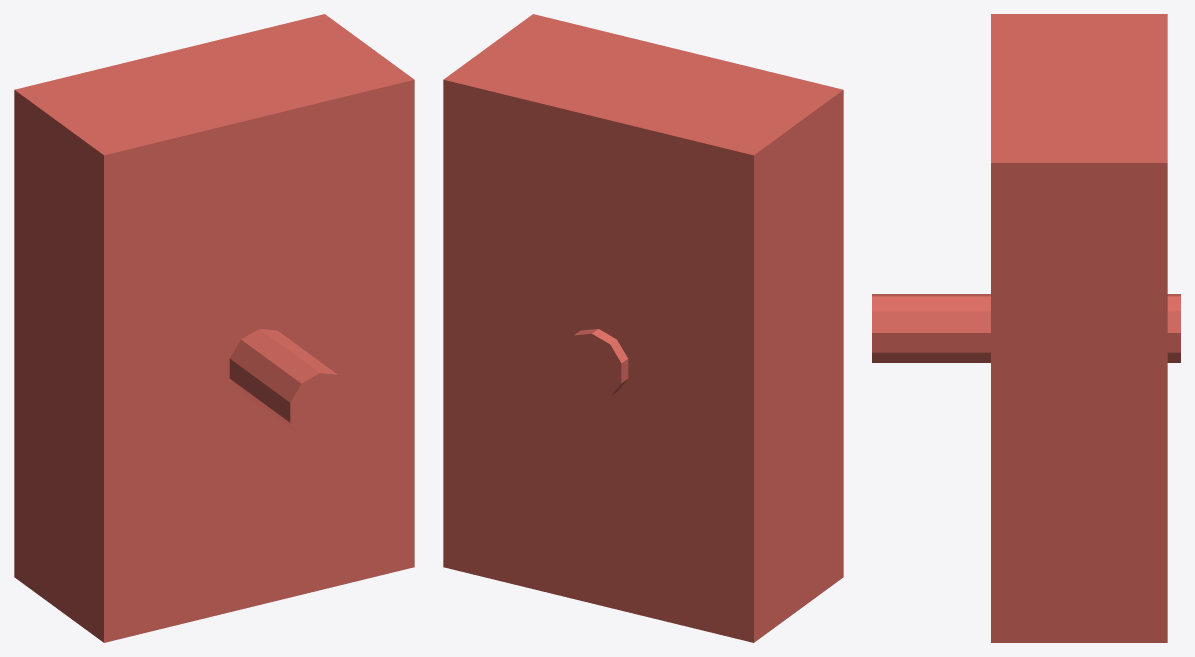
The model's file is extinguisher_station.glb.
3 renders of one model, left to right at view 1: azimuth 30°, elevation 25°; view 2: azimuth 150°, elevation 25°; view 3: azimuth 270°, elevation 25°, orthographic.
Parts seen in each view (by area): view 1: cabinet, ext; view 2: cabinet, ext; view 3: cabinet, ext.
Boxes of the visible parts, x1,y1,x2,y2 form: cabinet: [14, 14, 414, 642]; ext: [229, 329, 349, 437]; cabinet: [443, 14, 843, 642]; ext: [562, 329, 628, 398]; cabinet: [991, 14, 1167, 642]; ext: [872, 294, 1180, 362].
Bounding box in the file's own units: 0.7998 × 1.2 × 0.7002.
